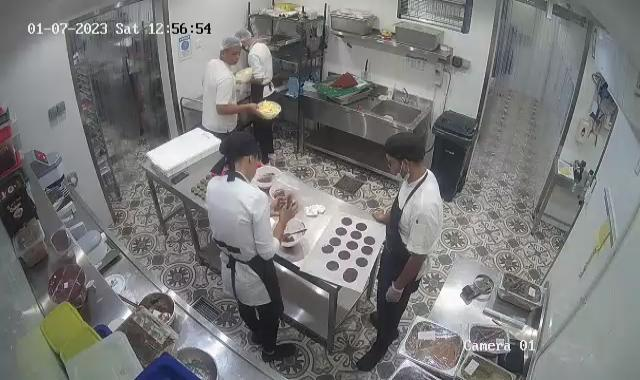hairnet: (234, 25, 256, 48), (221, 38, 242, 59)
no_hairnet: (385, 130, 425, 167), (219, 133, 261, 162)
